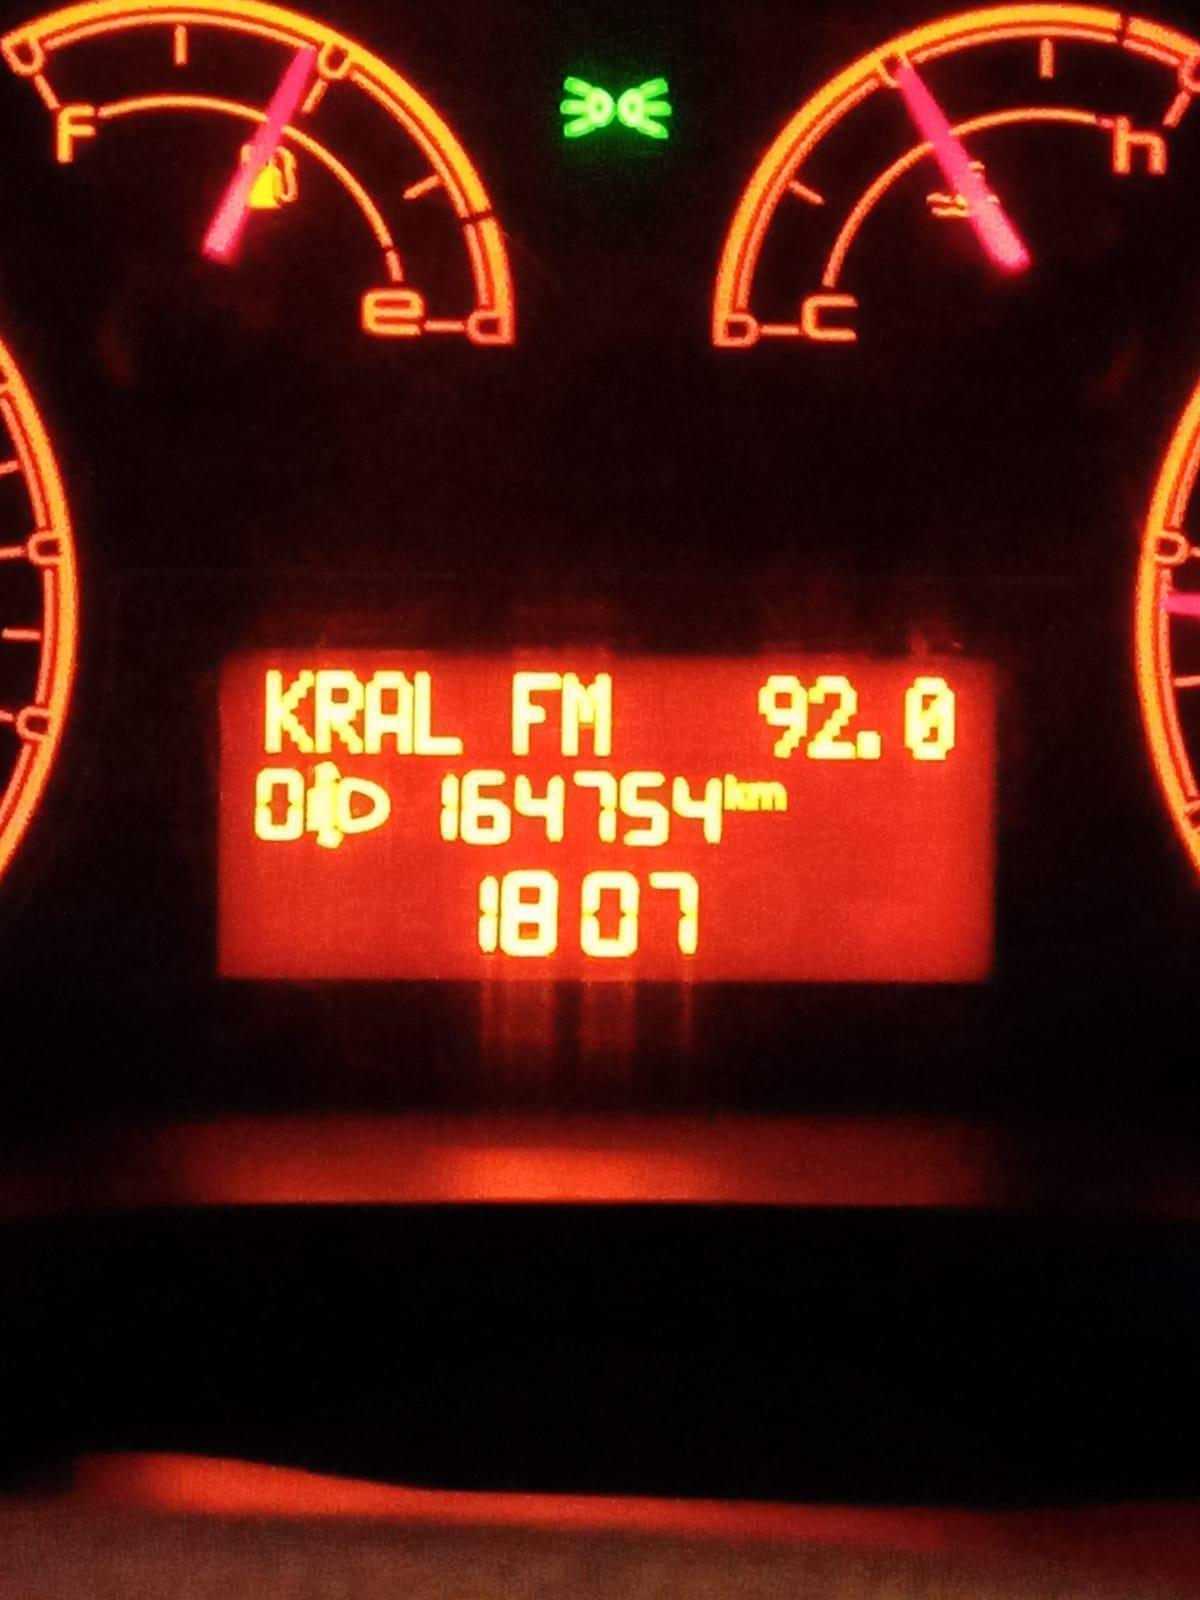,: (856, 723, 881, 767)
0: (899, 668, 955, 772), (579, 864, 642, 957), (252, 763, 304, 845)
1: (471, 868, 500, 963), (436, 766, 461, 854)
2: (808, 668, 856, 763)
4: (512, 769, 568, 845), (671, 770, 721, 848)
5: (621, 769, 669, 847)
6: (463, 767, 511, 847)
7: (650, 866, 706, 957), (571, 765, 619, 845)
8: (502, 866, 562, 965)
9: (758, 666, 807, 763)
X: (562, 668, 619, 760), (415, 668, 466, 758), (263, 666, 313, 758), (511, 666, 560, 758), (316, 666, 366, 757), (367, 666, 413, 758), (749, 777, 789, 814), (724, 770, 747, 816)
odometer: (213, 653, 1011, 986)
